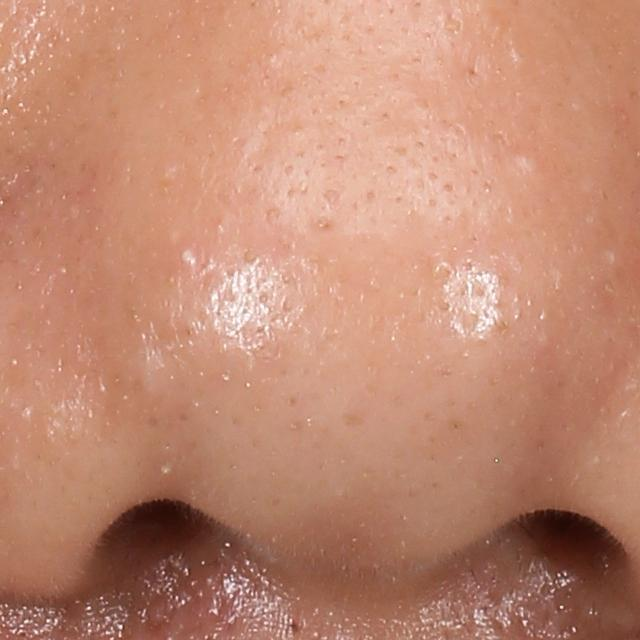comedo: (509, 144, 549, 181)
pustule: (172, 241, 199, 270)
